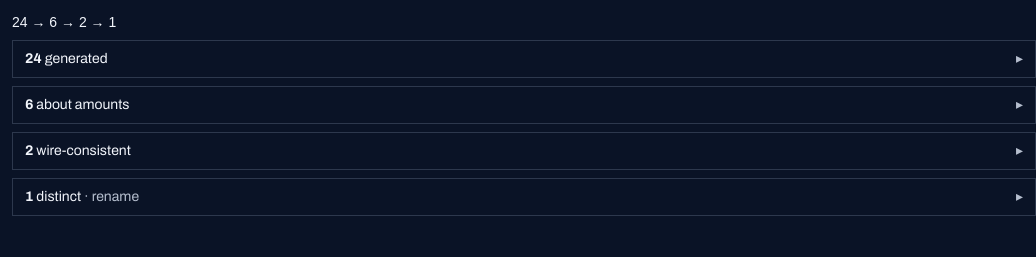
Test case: HypothesisFunnel › renders the funnel headline and expandable stages
Expected: the text with test id "hypothesis-funnel-headline" reads "24 → 6 → 2 → 1", [12, 14, 116, 30]
Click the button with test id "funnel-stage-toggle-distinct" at (59, 196), box [25, 187, 1023, 207]
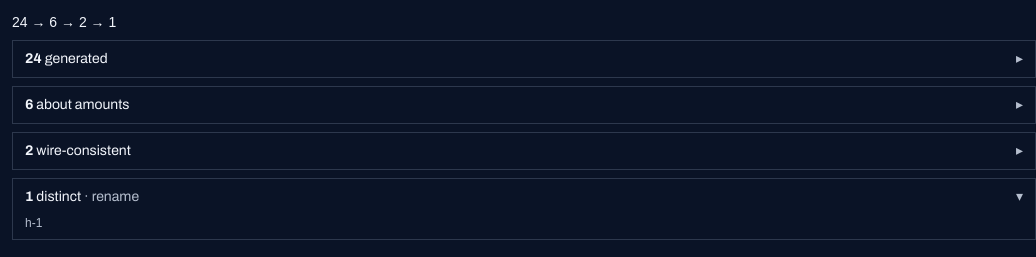
Expected: the element with test id "funnel-stage-detail-distinct" reads "h-1", [25, 216, 42, 230]
